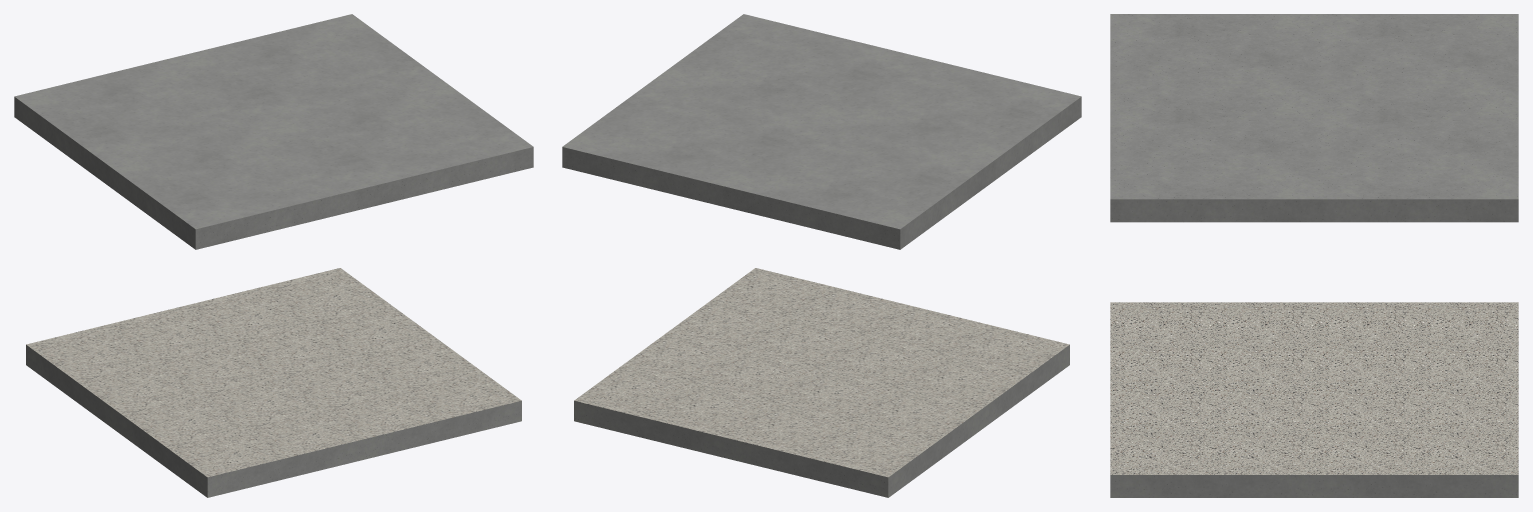
File: gteki_passage_cross_w4.glb
3 views of the same model, side by side, from view 1: azimuth 30°, elevation 25°; view 2: azimuth 150°, elevation 25°; view 3: azimuth 270°, elevation 25° (orthographic). The views are drawn at different scales.
Parts seen in each view (by area): view 1: VIS_ceiling, VIS_floor; view 2: VIS_ceiling, VIS_floor; view 3: VIS_ceiling, VIS_floor.
Part boxes in pixels (<box>): VIS_ceiling: <box>14,14,533,249</box>; VIS_floor: <box>26,268,521,497</box>; VIS_ceiling: <box>562,14,1081,249</box>; VIS_floor: <box>574,268,1069,497</box>; VIS_ceiling: <box>1110,14,1518,222</box>; VIS_floor: <box>1110,302,1518,497</box>.
Size of what is drawn, in the model's own units: 4.3 by 3.3 by 4.
Materials: 5 (3 with a texture image).
